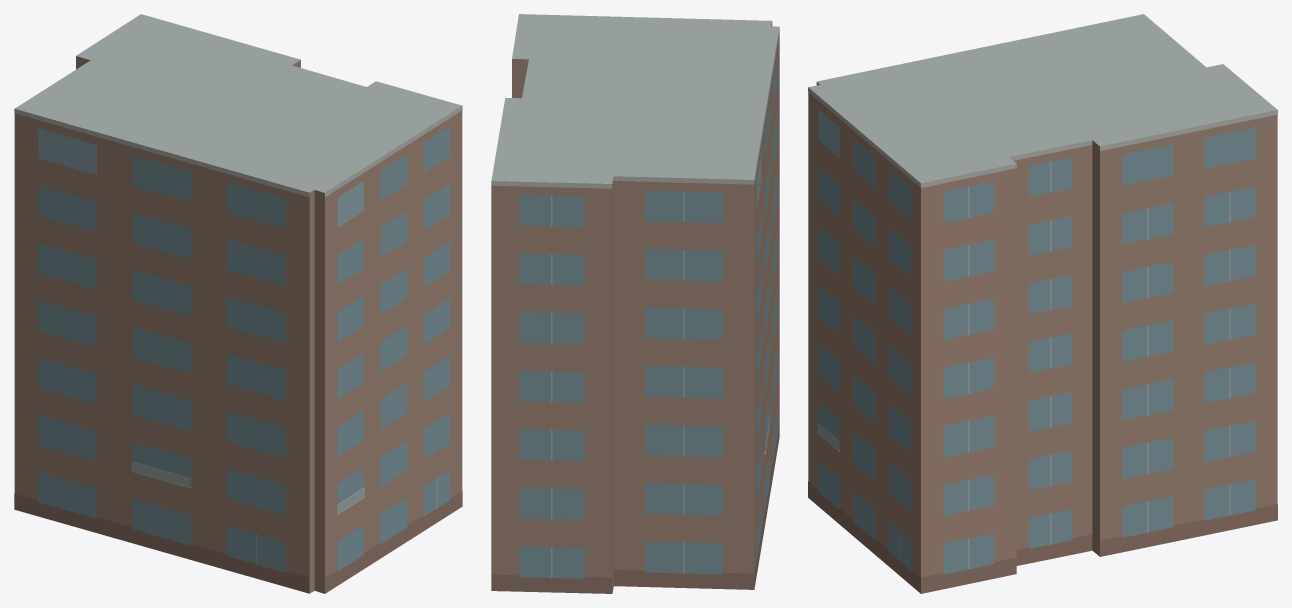
The model's file is survey-upis-32701123.glb.
3 renders of one model, left to right at view 1: azimuth 30°, elevation 25°; view 2: azimuth 150°, elevation 25°; view 3: azimuth 270°, elevation 25°, orthographic. The views are drawn at different scales.
Parts seen in each view (by area): view 1: survey-upis-32701123.tmp; view 2: survey-upis-32701123.tmp; view 3: survey-upis-32701123.tmp.
Boxes of the visible parts, bbox=[...] form: survey-upis-32701123.tmp: bbox=[14, 14, 462, 593]; survey-upis-32701123.tmp: bbox=[491, 14, 779, 593]; survey-upis-32701123.tmp: bbox=[808, 14, 1277, 593].
Bounding box in the file's own units: 18.91 × 21.35 × 22.15.
